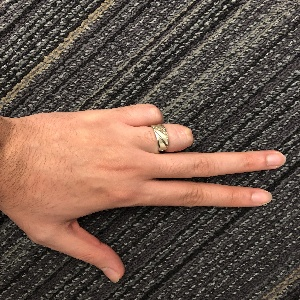hand: (17, 104, 286, 282)
